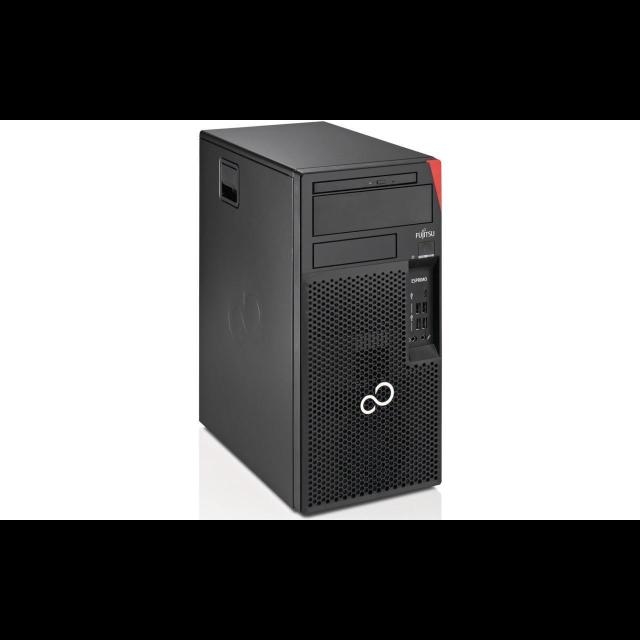Desktop-PC: (194, 120, 452, 518)
